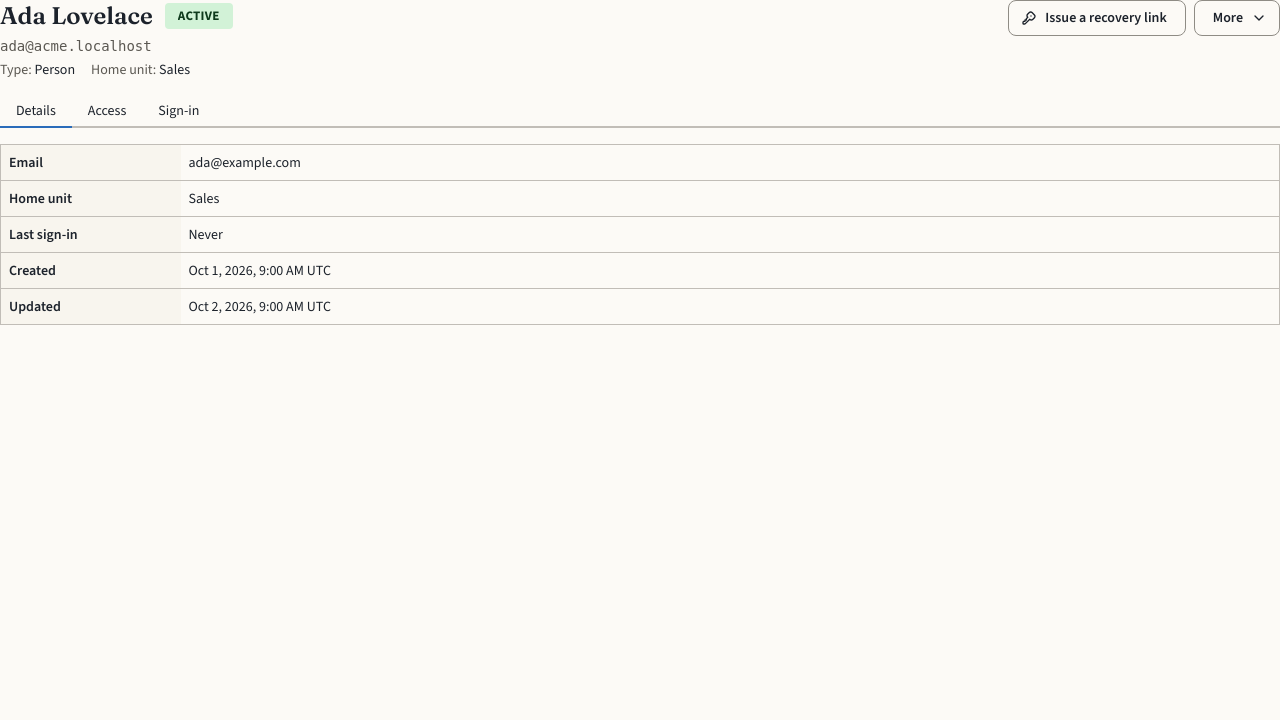
Test: the user record's actions › deactivate behind a confirmation, and say the API's reason when the last administrator must stay [ADR-0046]
Click the button with aria-label "More actions for Ada Lovelace" at point(1237, 18), box [1194,0,1279,36]
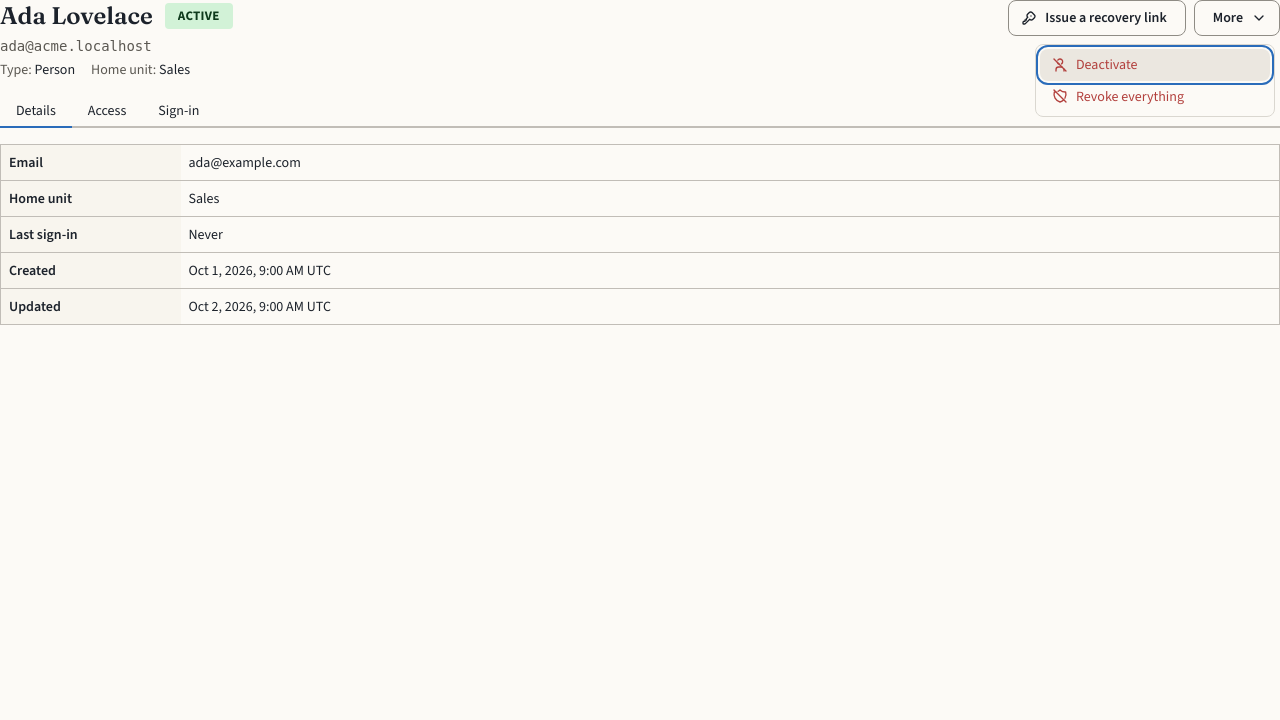
Click the menu item "Deactivate" at point(1155, 65), box [1040,49,1270,81]
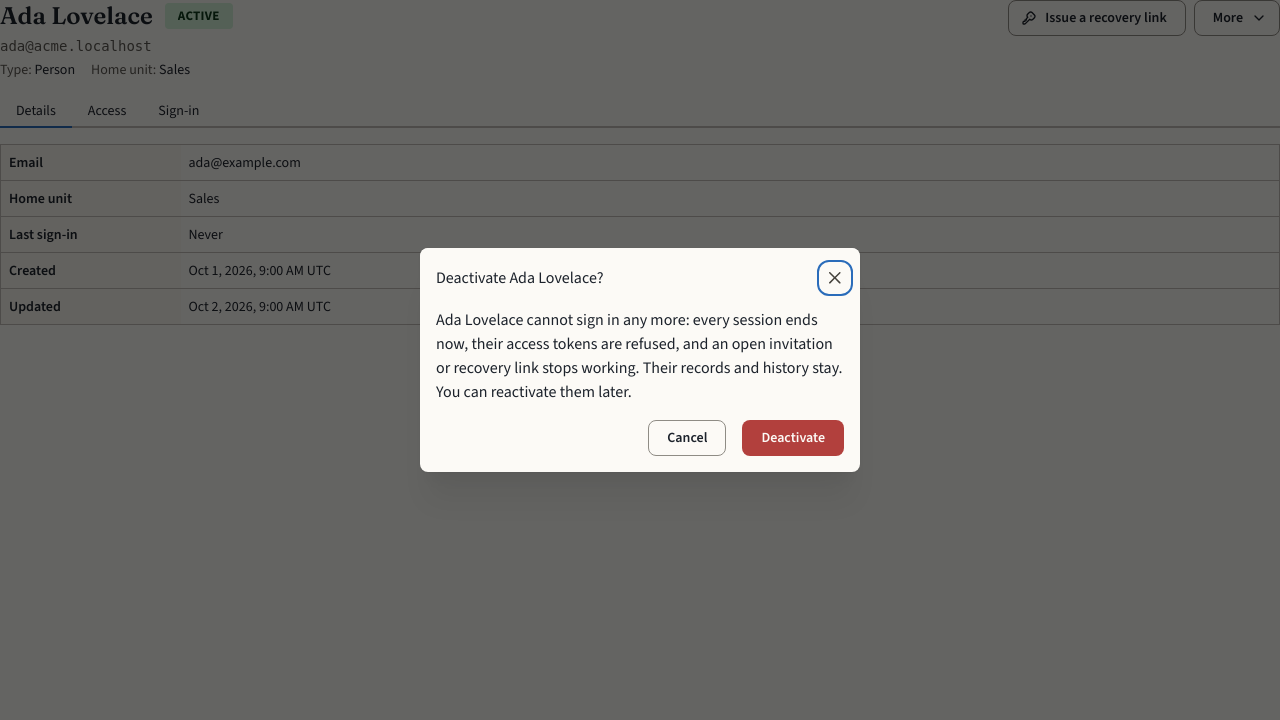
Now the dialog "Deactivate Ada Lovelace?" shows "every session ends now, their access tokens are refused", box [436,309,843,402]
Click the button "Deactivate" at point(793, 438), box [742,420,844,456]
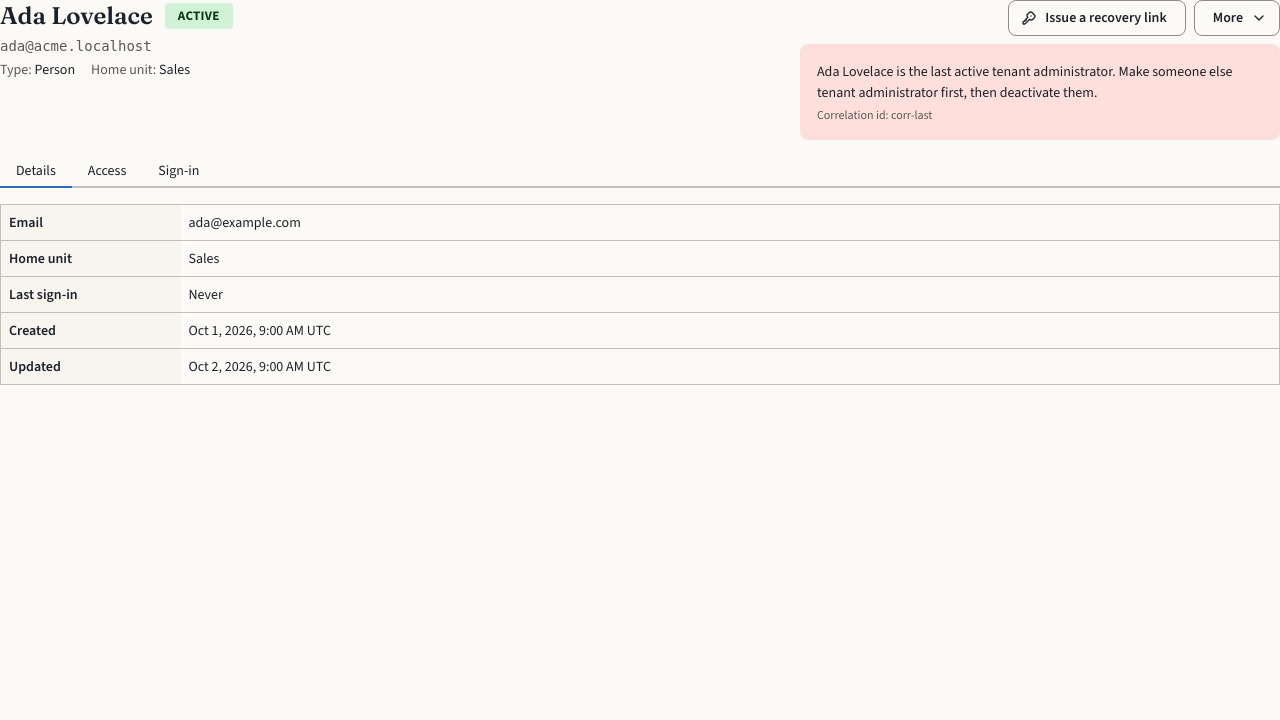
Now the message shows "the last active tenant administrator", box [817,62,1232,102]
Now the message shows "corr-last", box [817,107,932,123]
